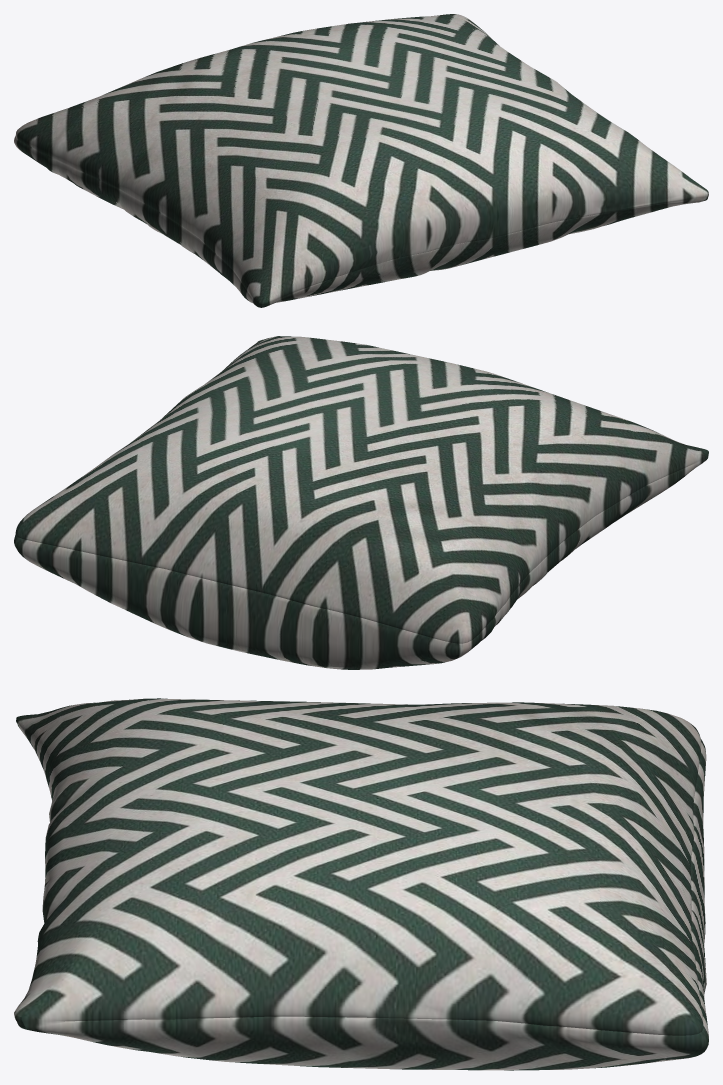
File: pillow1.glb
The picture shows the model from 3 angles, top to bottom: view 1: azimuth 30°, elevation 25°; view 2: azimuth 150°, elevation 25°; view 3: azimuth 270°, elevation 25°; orthographic projection. The views are drawn at different scales.
Visible parts, largest first — view 1: Cushion-03; view 2: Cushion-03; view 3: Cushion-03.
Part boxes in pixels (x1,y1,x2,y2): Cushion-03: (14,14,708,307); Cushion-03: (14,336,708,669); Cushion-03: (14,698,708,1070).
Size of the model in its own units: 0.4503 by 0.1507 by 0.4327.
1 material, 1 textured.
